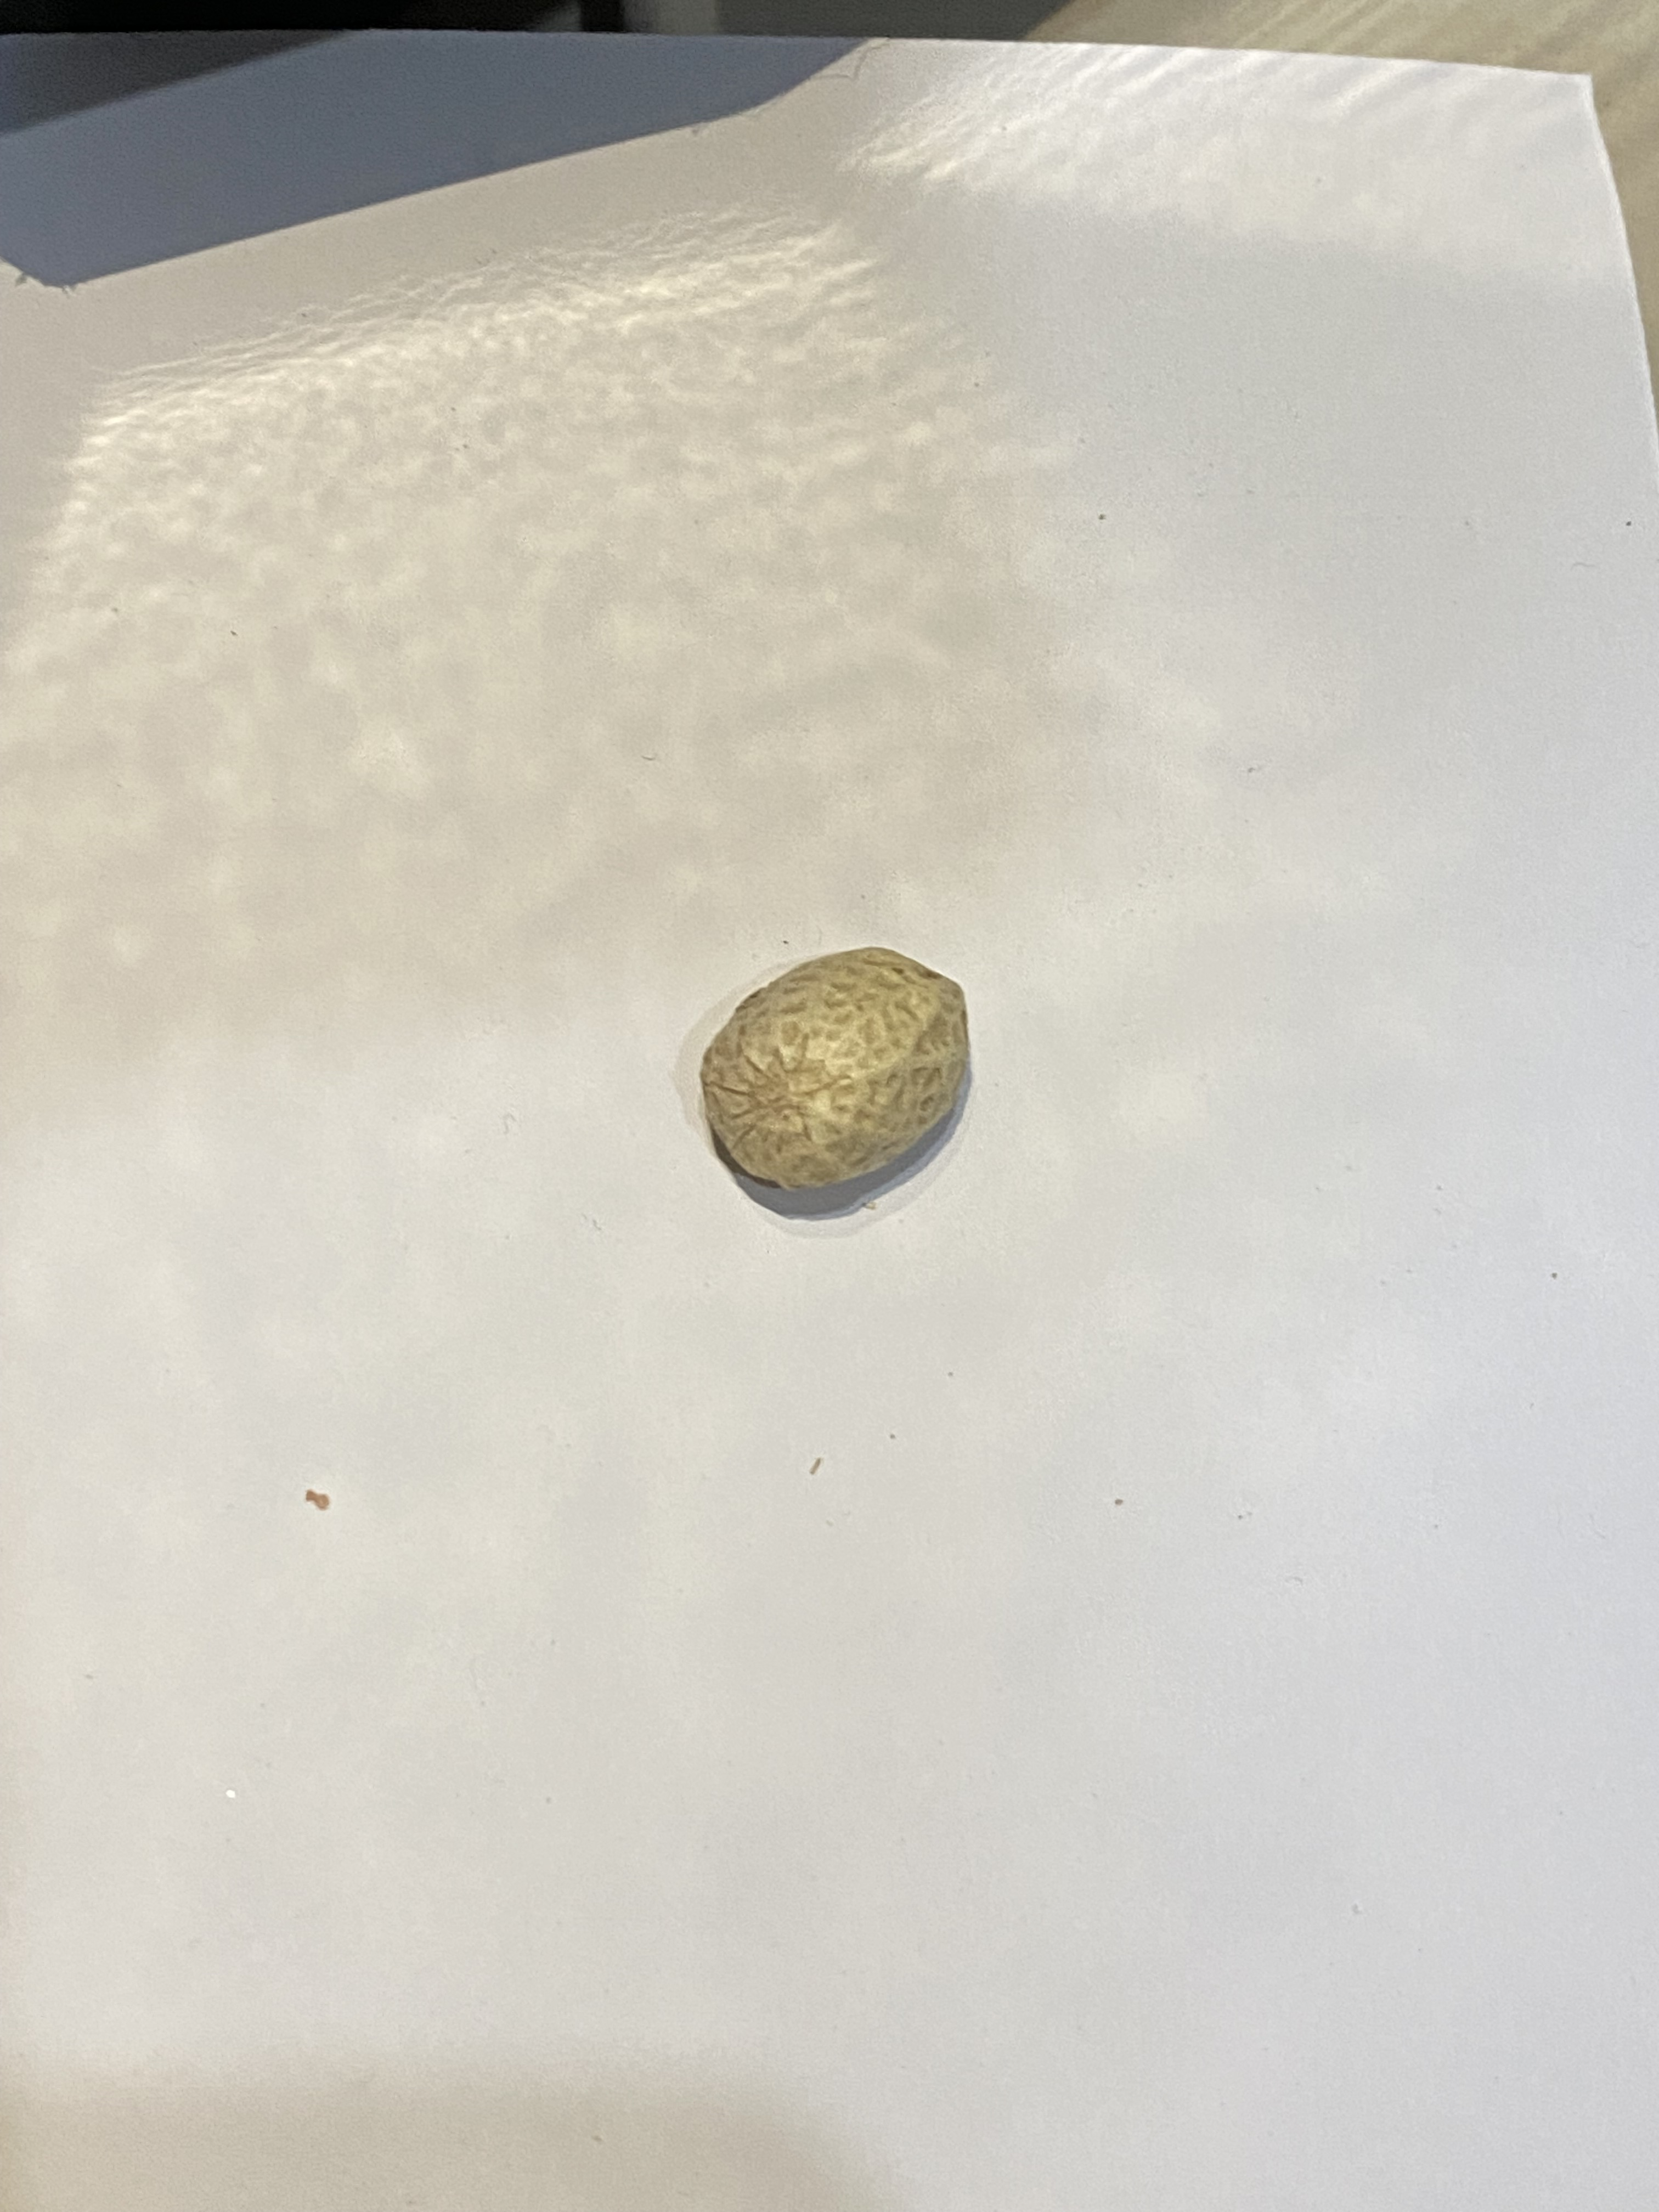kacang1: (676, 939, 985, 1209)
